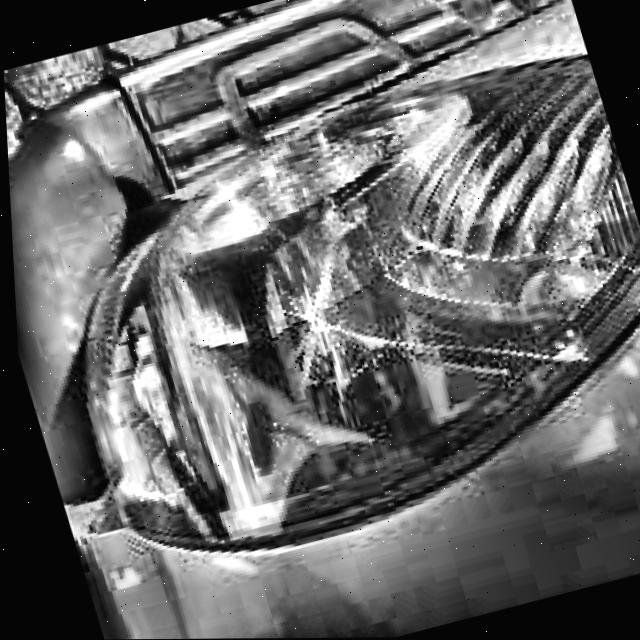tail_lamp: (149, 108, 597, 426)
